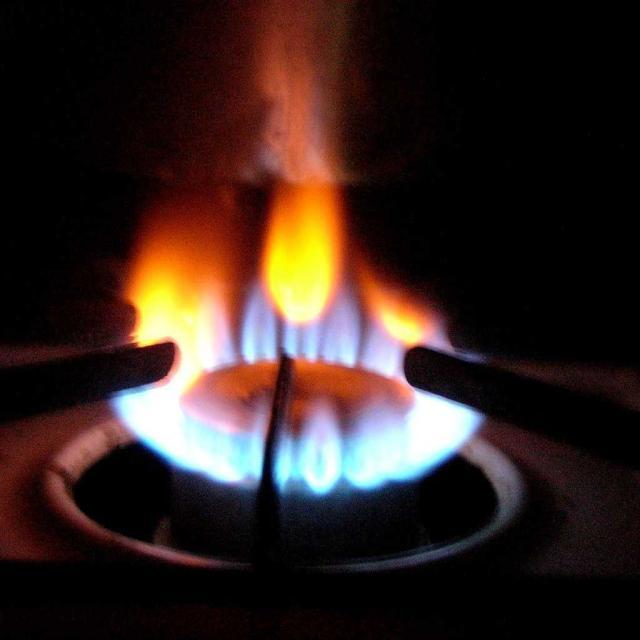Fire: (138, 307, 470, 465), (157, 180, 360, 286)
